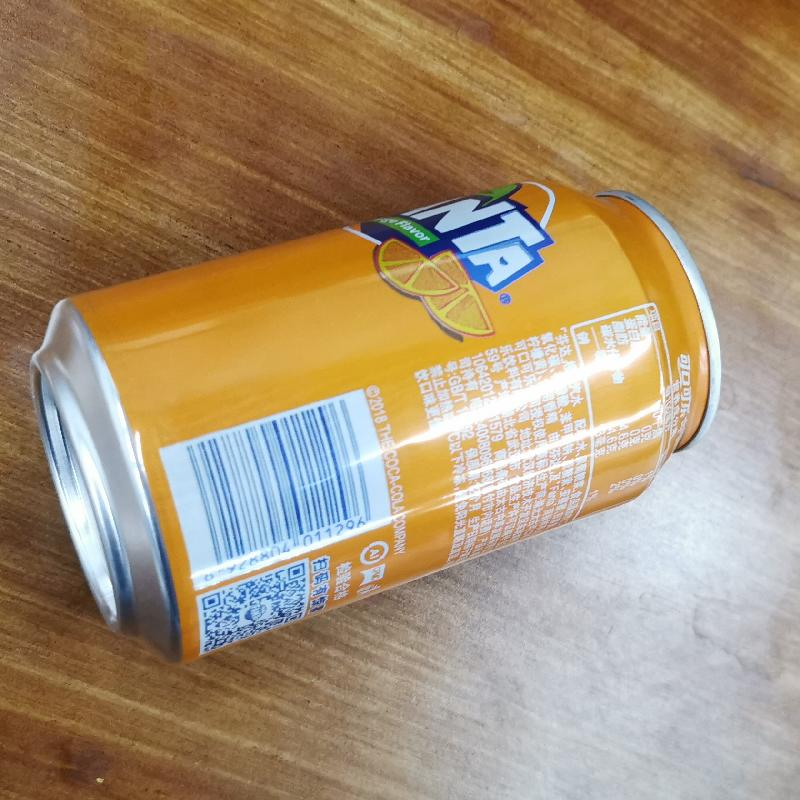cans: (26, 178, 726, 661)
